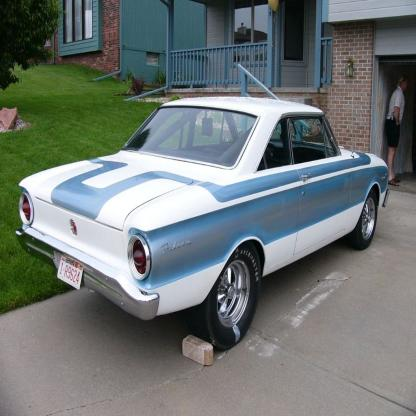Car: (16, 98, 391, 352)
